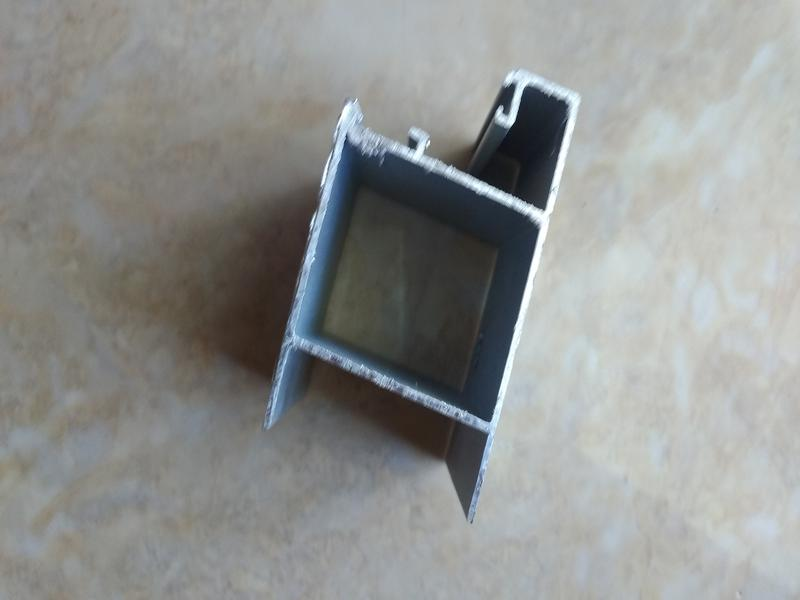Aluminium_2: (234, 43, 607, 548)
